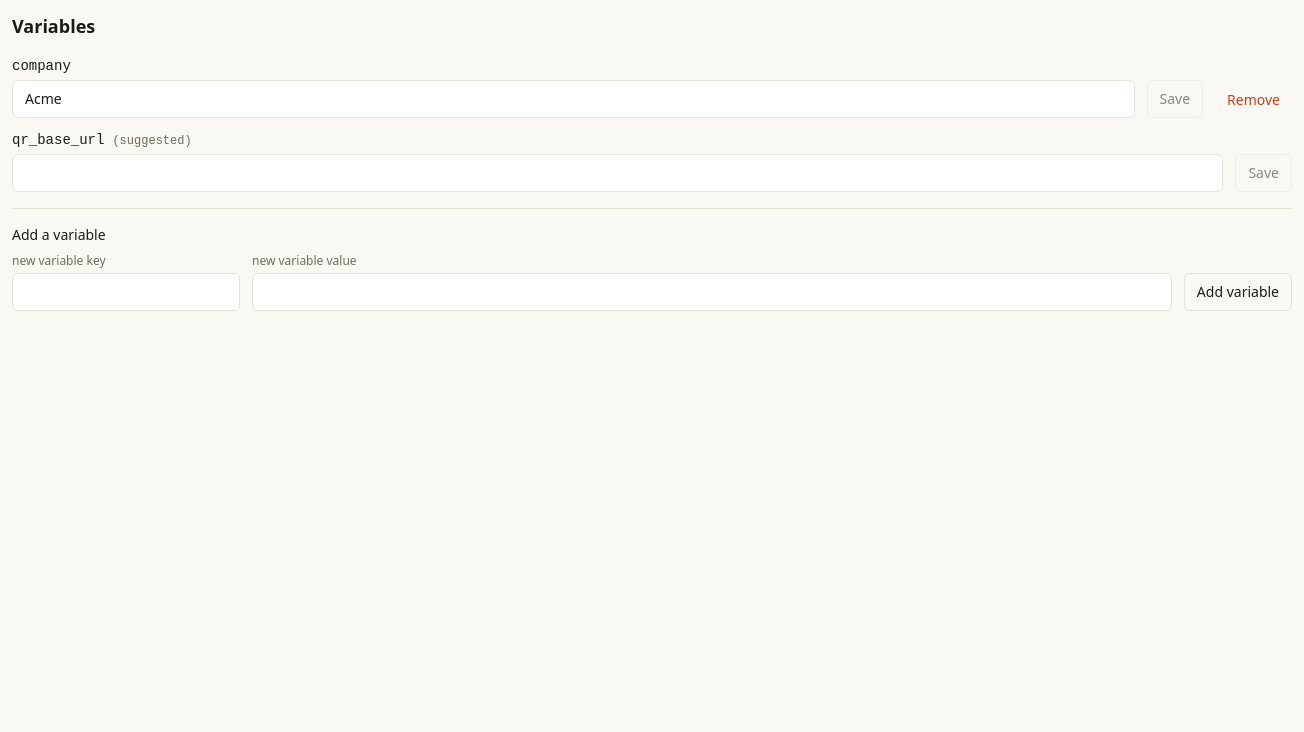
Scenario: VariablesSection › saves an edited variable via PUT /variables/{key}
Replace the text in the field labelled "company" with "Globex": coordinates (573, 99) left=12, top=80, right=1134, bottom=118
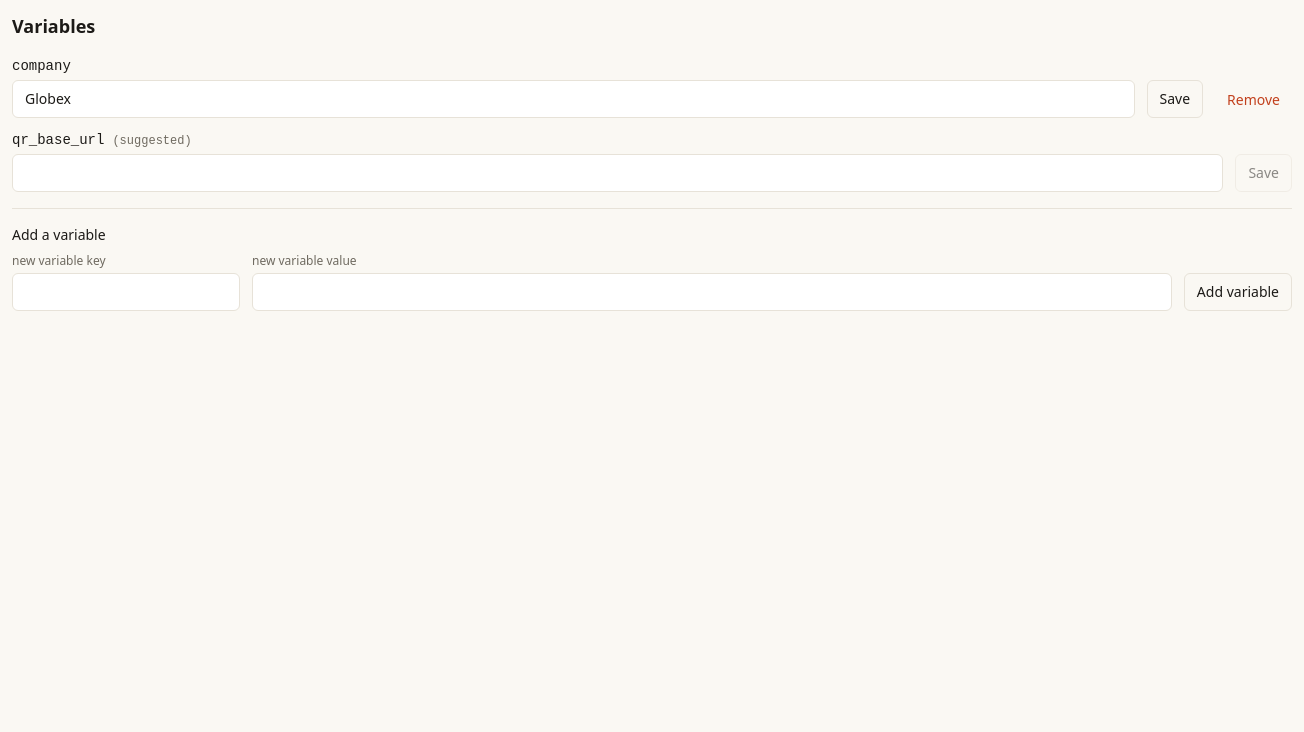
Click the button with aria-label "save company": coordinates (1175, 99) left=1146, top=80, right=1203, bottom=118
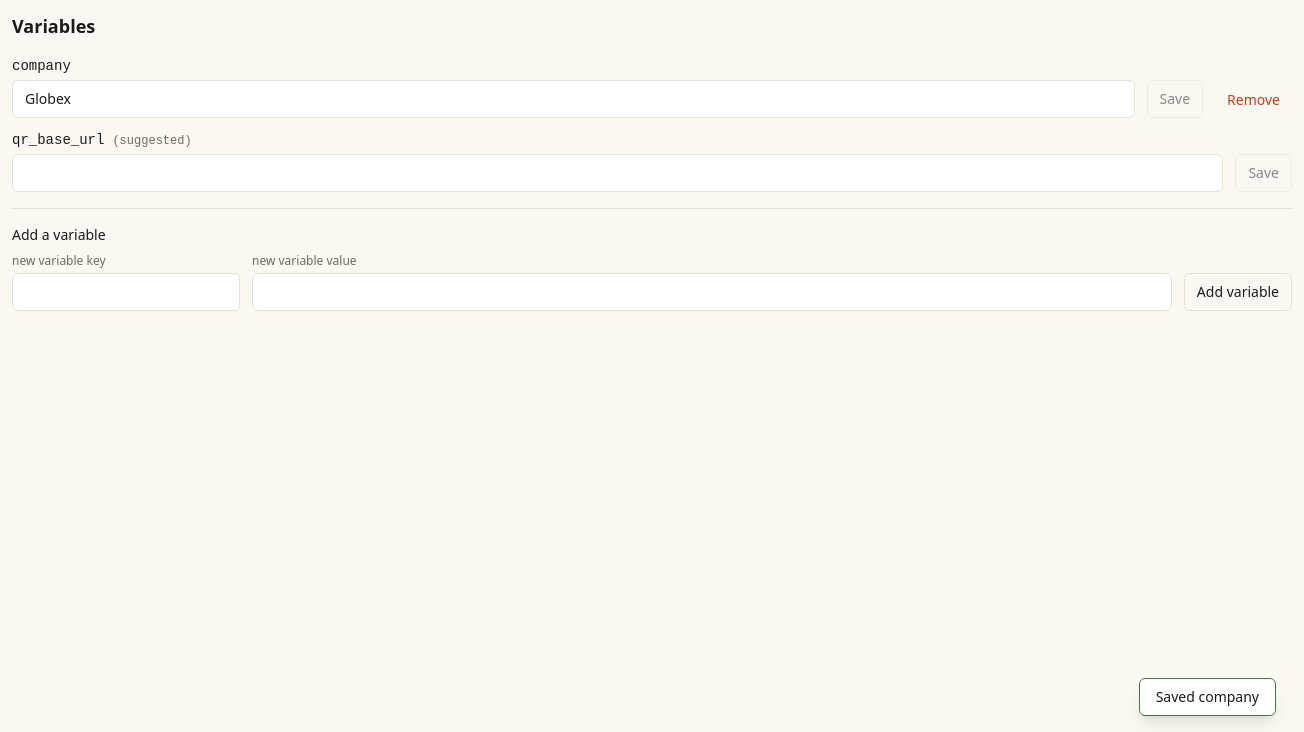
Result: the button with aria-label "save company" is disabled at left=1146, top=80, right=1203, bottom=118
